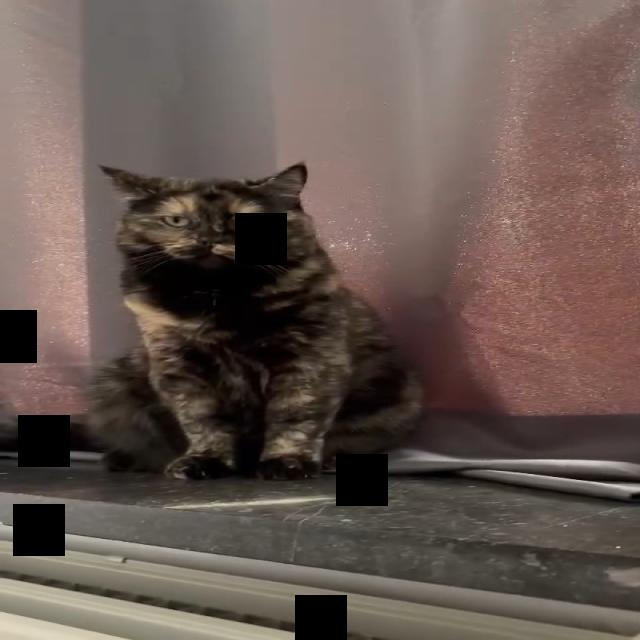authorized: (82, 160, 426, 481)
